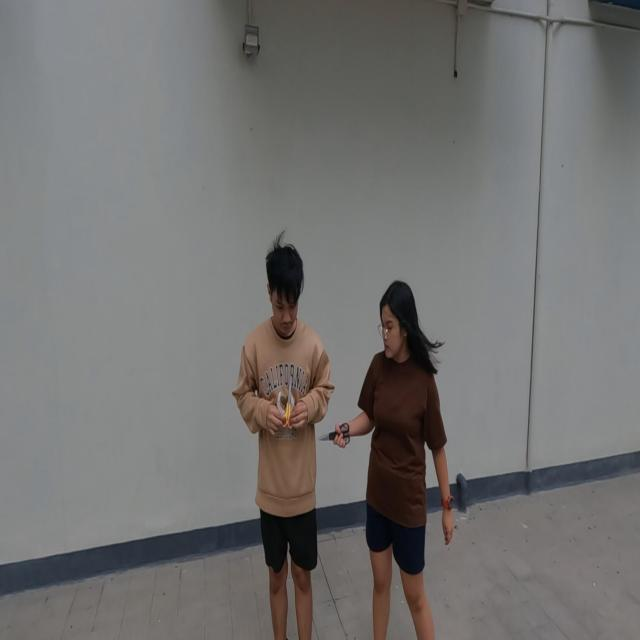scissor: (281, 374, 295, 431), (318, 422, 350, 444)
